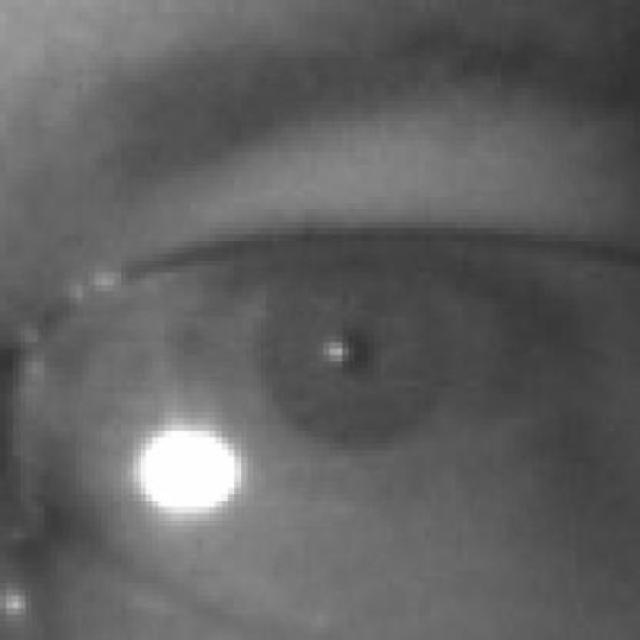awake: (187, 249, 556, 473)
